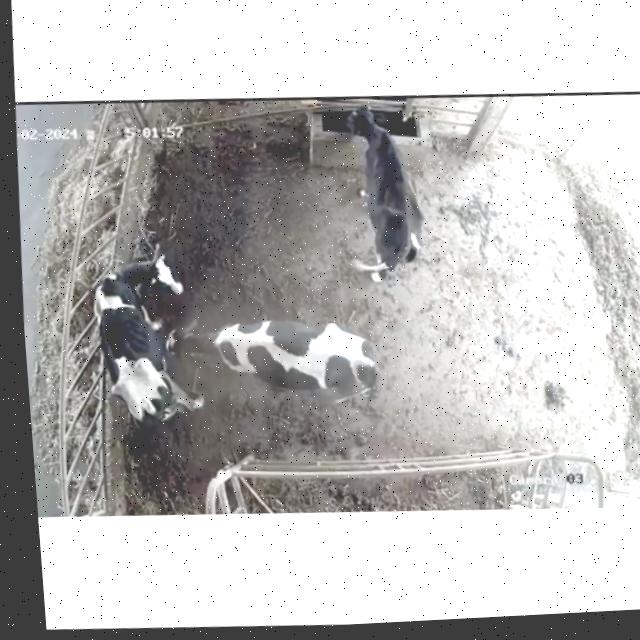stand: (80, 238, 213, 441), (156, 306, 393, 410)
